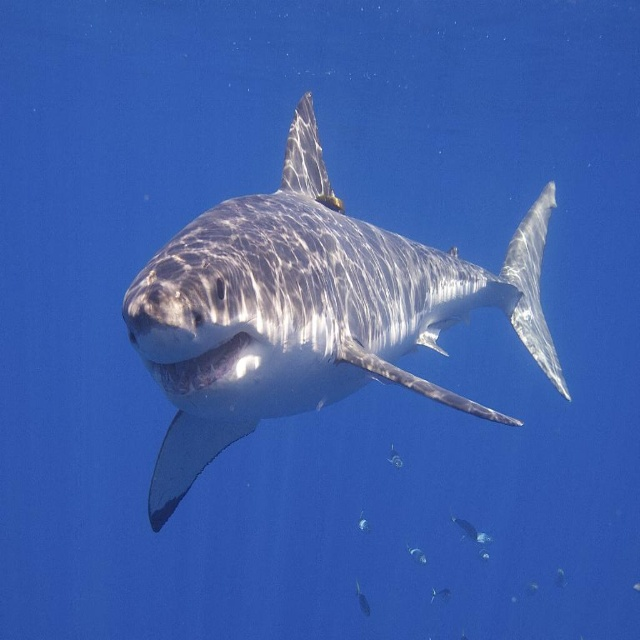Shark: (121, 90, 573, 533)
